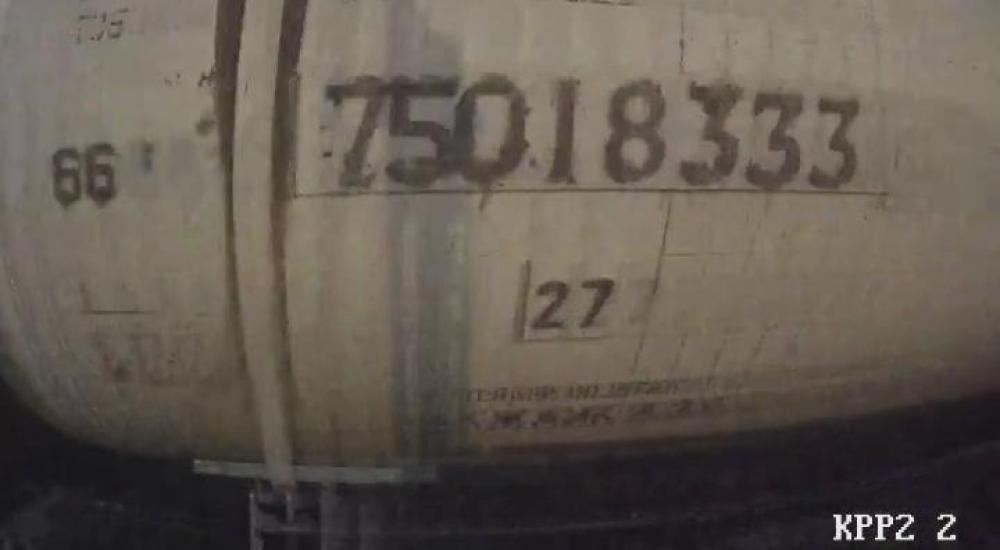Wagon-number: (320, 68, 862, 194)
